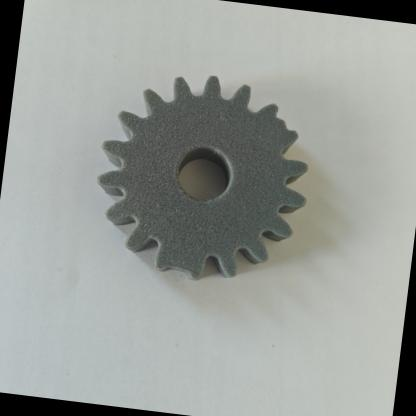defect: (136, 229, 226, 299), (236, 82, 308, 168)
gear: (68, 48, 337, 327)
